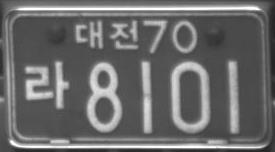0: (168, 60, 213, 135), (169, 18, 198, 54)
1: (217, 59, 251, 136), (128, 60, 162, 133)
7: (141, 18, 168, 54)
8: (84, 60, 124, 134)
대전_O: (73, 18, 140, 51)
라: (23, 60, 70, 111)
